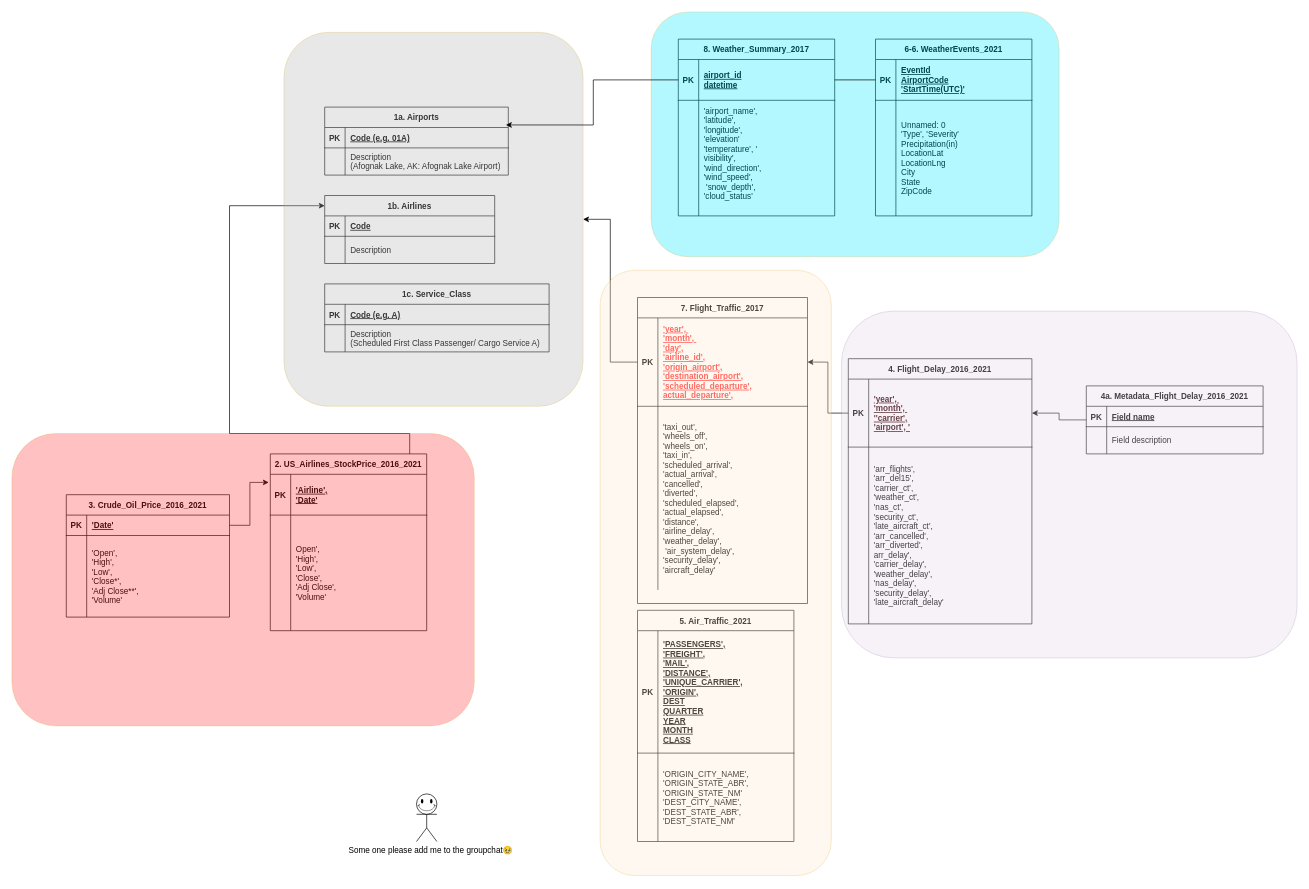
The diagram is 1309 pixels wide and 889 high, and some of its shapes have lost their labels. The centre of each missing label's shape, as x and y in pixels:
Base: the point at 433,219
Delay: the point at 1069,484
Finance: the point at 242,579
Traffic: the point at 715,573
Weather: the point at 854,134
